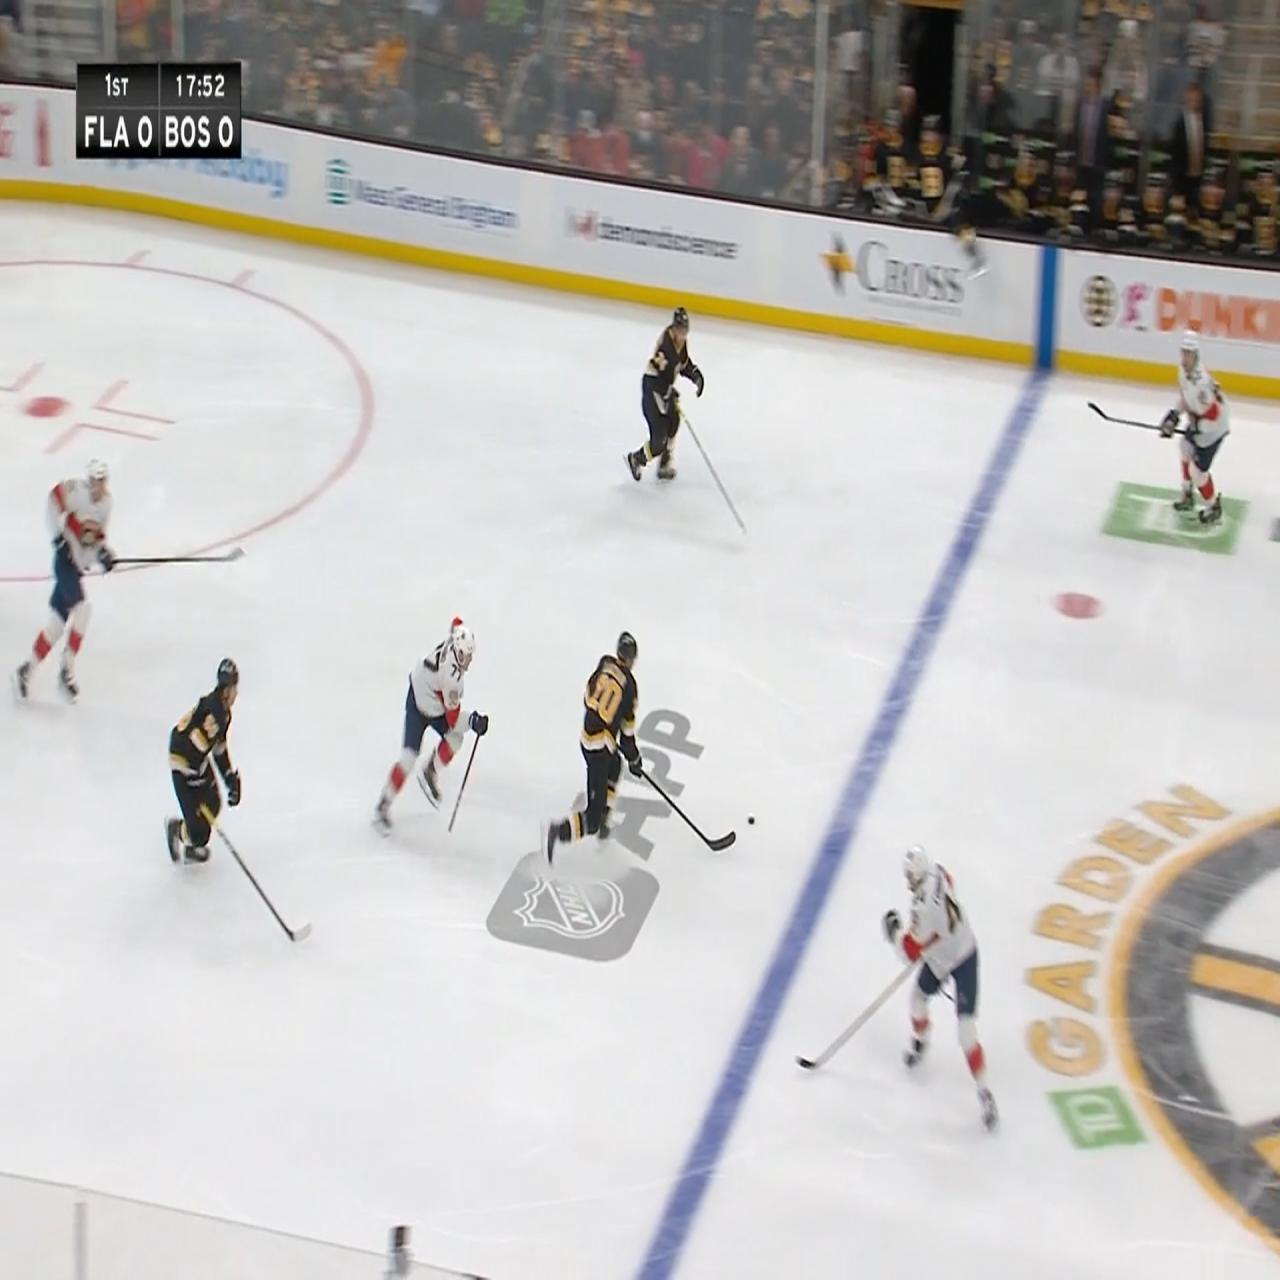Ad: (490, 700, 704, 956), (328, 144, 531, 244), (1117, 459, 1279, 561), (558, 202, 744, 277), (1121, 268, 1279, 350), (824, 225, 961, 315), (0, 93, 66, 183), (241, 143, 290, 209)
